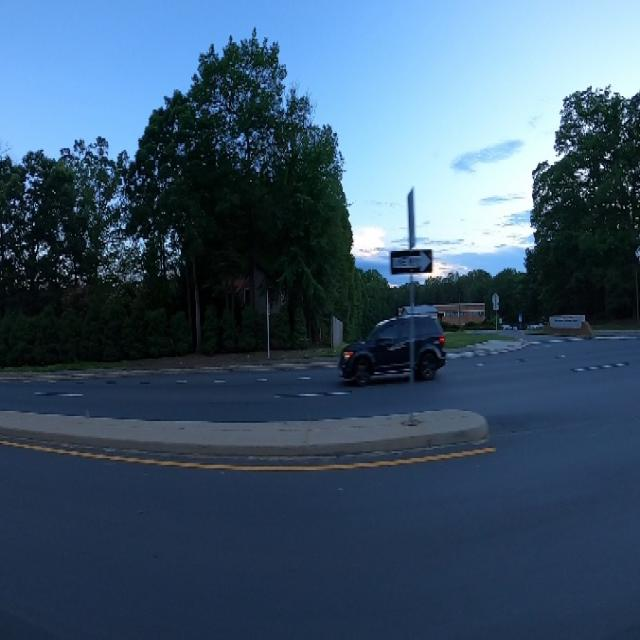cars: (338, 307, 448, 388)
